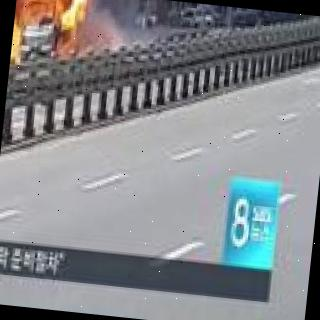fire: (15, 0, 96, 20), (9, 20, 21, 66)
